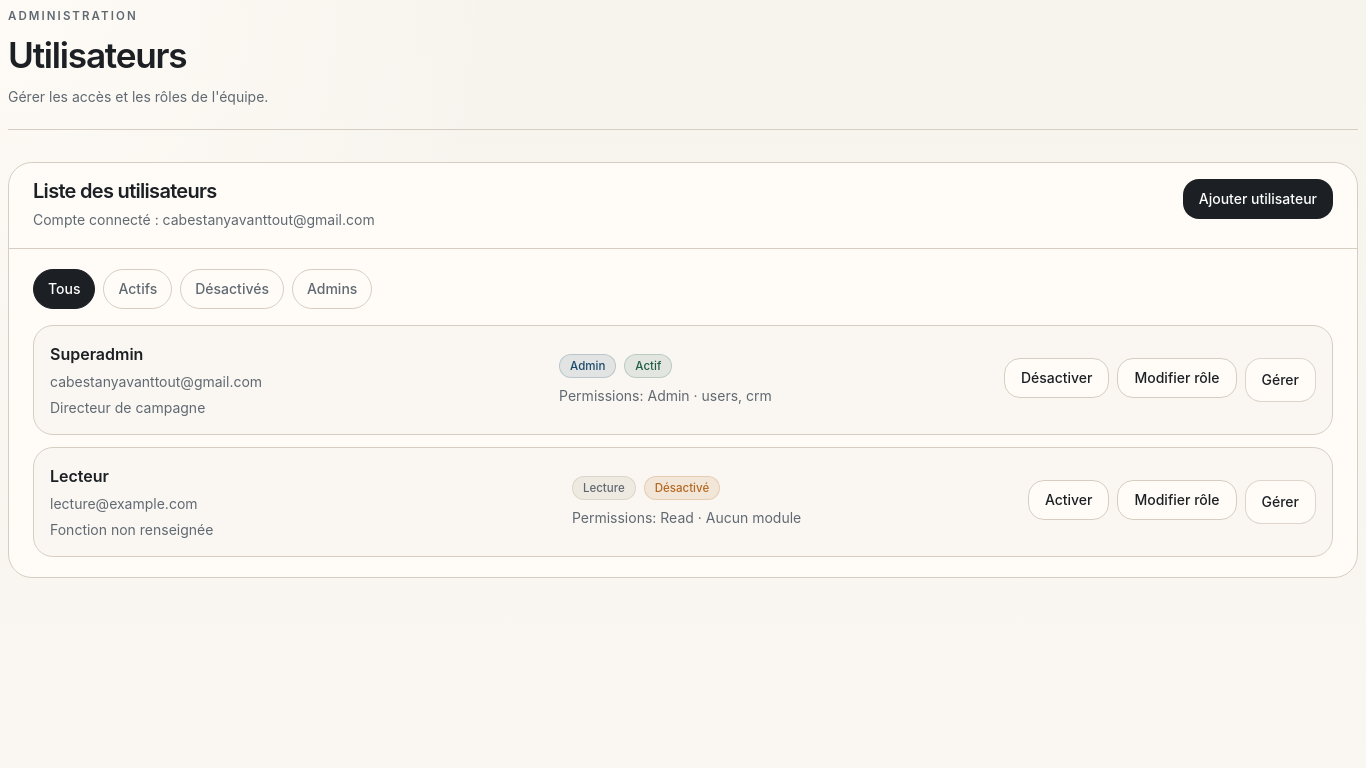
Test: UsersPage › applique le filtre admins
Click the button "Admins" at x=332, y=289, box 292,269 -> 372,309
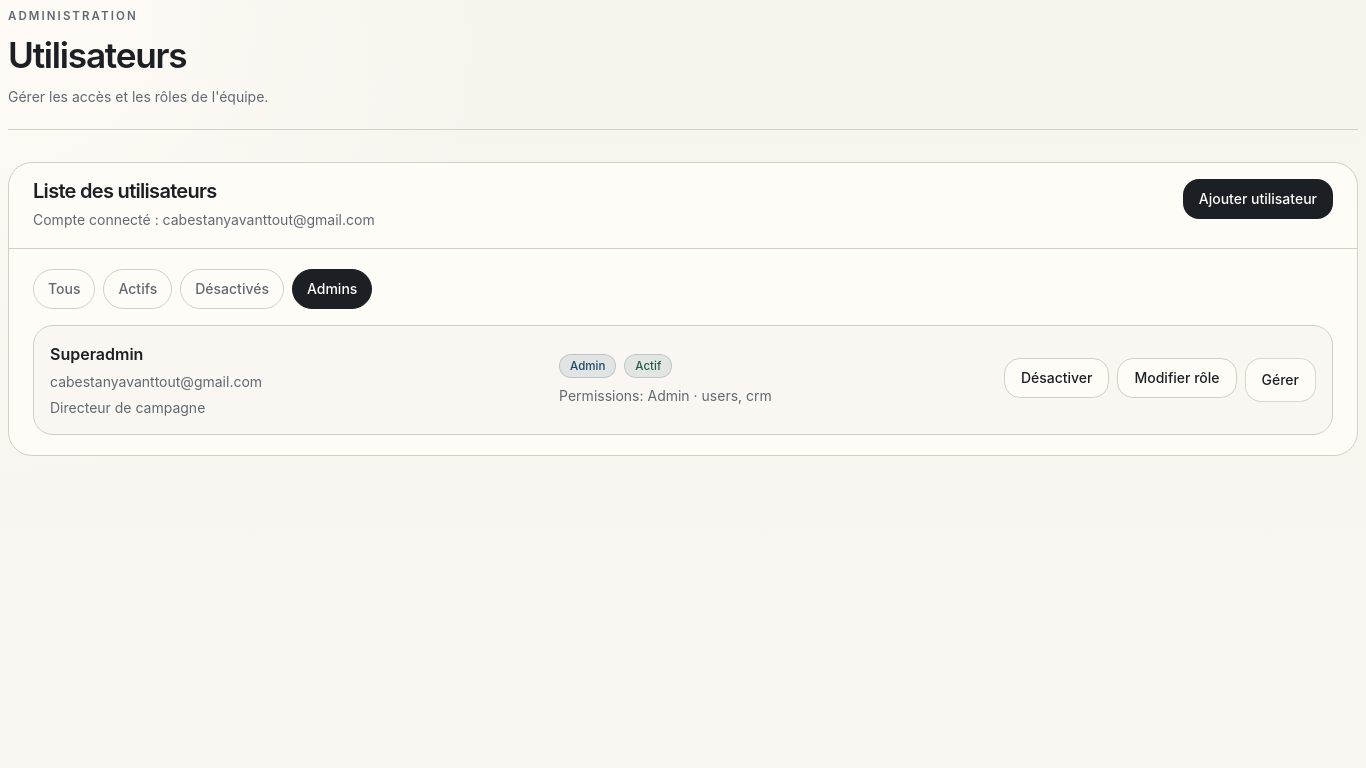
Expected: the text "Superadmin" is shown, 50,344 -> 143,364
Now the text "Lecteur" is gone
